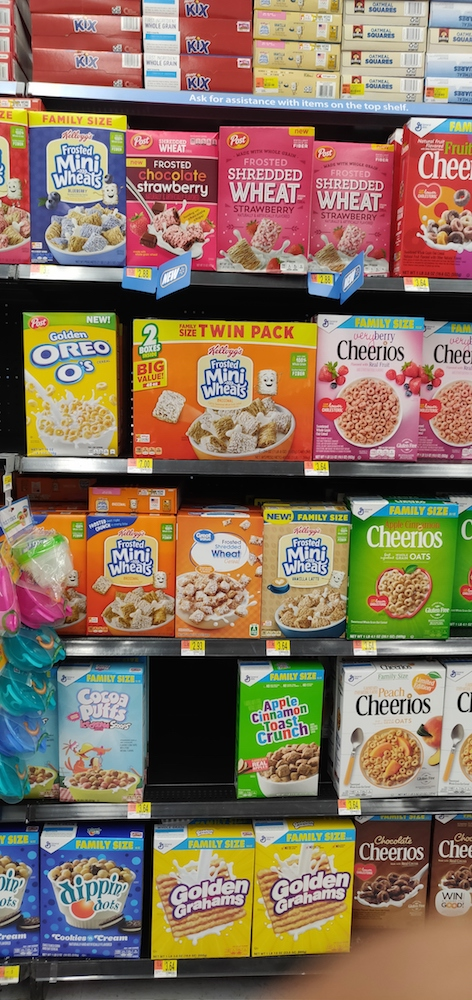Cocoa Puffs Ice Cream-563408546: (58, 663, 148, 796)
Oreo Golden-568301011: (26, 314, 118, 452)
